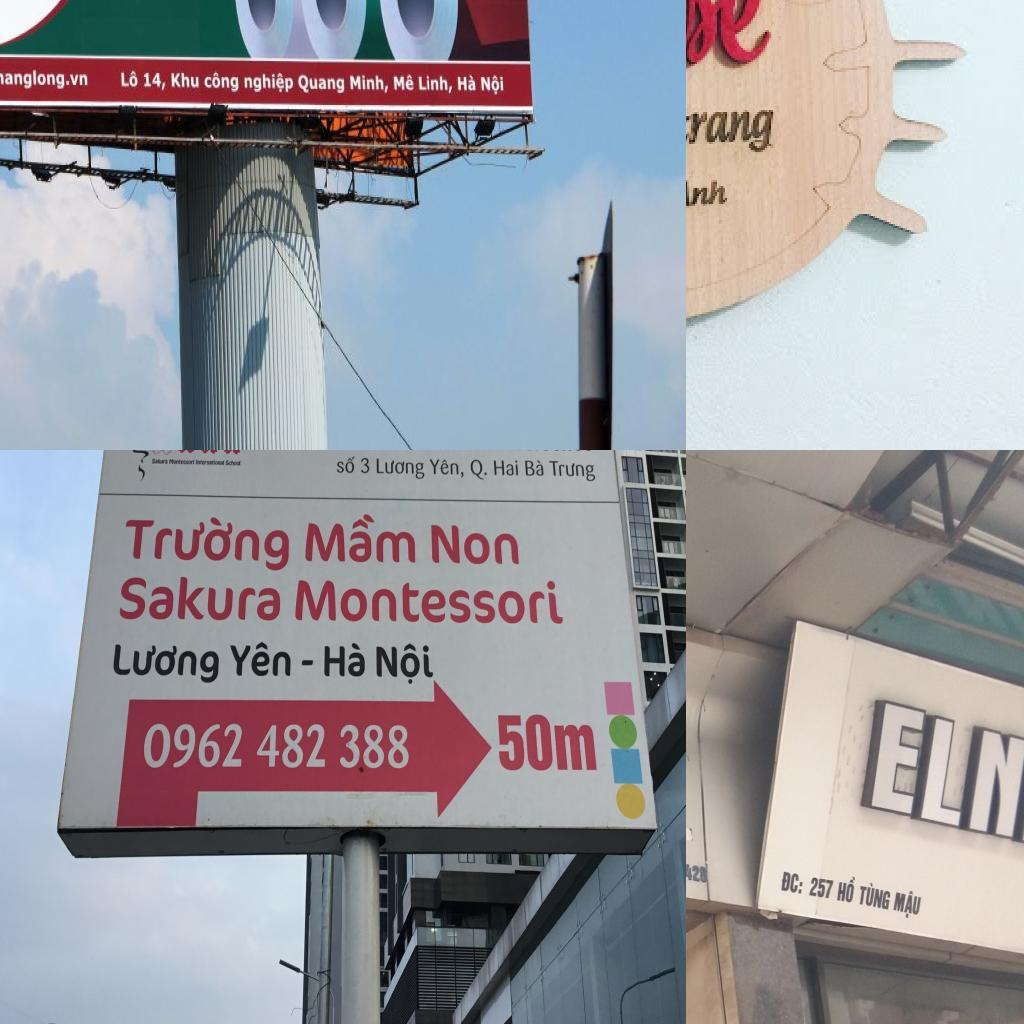text: (859, 696, 1024, 869), (142, 722, 411, 771), (124, 514, 292, 575), (116, 570, 283, 623), (496, 711, 599, 774), (303, 509, 417, 565), (686, 98, 783, 160), (112, 641, 220, 688), (429, 521, 521, 567), (375, 641, 435, 687), (226, 640, 294, 678), (322, 640, 366, 680), (686, 176, 733, 212), (376, 457, 426, 481), (241, 72, 295, 94), (297, 72, 346, 96), (548, 459, 597, 483), (892, 886, 924, 922), (858, 880, 892, 912), (417, 73, 454, 97), (348, 73, 390, 94), (204, 72, 240, 96), (428, 457, 465, 480), (480, 74, 508, 102), (686, 852, 707, 884), (808, 876, 836, 900), (836, 873, 857, 904), (780, 870, 804, 896), (142, 69, 167, 93), (455, 73, 479, 97), (119, 66, 140, 92), (170, 72, 200, 89), (493, 459, 520, 477), (391, 73, 416, 92), (469, 458, 488, 483), (336, 455, 356, 475), (524, 458, 545, 477), (168, 458, 196, 466), (195, 459, 225, 466), (360, 456, 370, 476), (225, 459, 242, 467), (152, 457, 168, 465)
